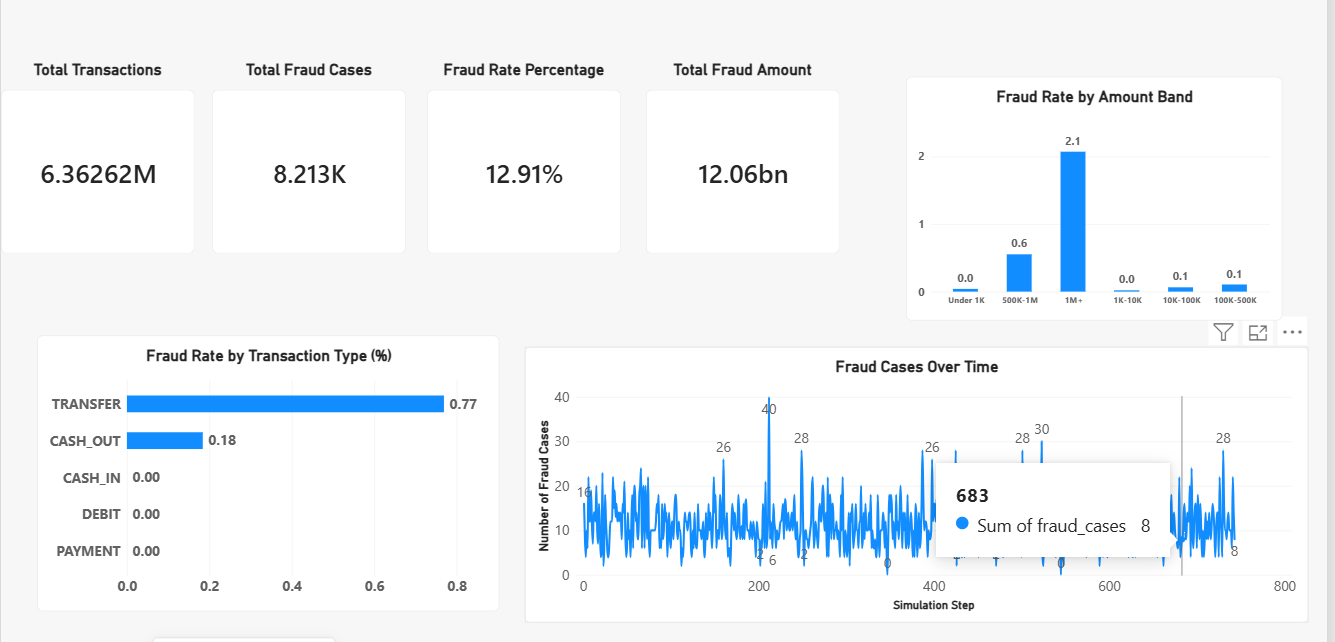

The page's visual inventory and layout, read from the dashboard file:
{"tool":"powerbi","page":{"name":"Fraud Analysis Overview","canvas":[1920,1080],"ordinal":0},"visuals":[{"type":"cardVisual","title":"Total Transactions","fields":{"Data":["Sum(fraud_kpis.total_transactions)"]},"box":[0,162.6,280,280],"z":0},{"type":"cardVisual","title":"Total Fraud Cases","fields":{"Data":["Sum(fraud_kpis.fraud_cases)"]},"box":[306.7,162.6,280,280],"z":1},{"type":"cardVisual","title":"Fraud Rate Percentage","fields":{"Data":["Sum(fraud_kpis.fraud_rate_pct)"]},"box":[617.5,162.6,280,280],"z":2},{"type":"cardVisual","title":"Total Fraud Amount","fields":{"Data":["Sum(fraud_kpis.total_fraud_amount)"]},"box":[934.5,162.6,280,280],"z":3},{"type":"clusteredBarChart","title":"Fraud Rate by Transaction Type (%)","fields":{"Category":["fraud_by_type.type"],"Y":["Sum(fraud_by_type.fraud_rate_pct)"]},"box":[52.5,561,669,399.3],"z":4},{"type":"lineChart","title":"Fraud Cases Over Time","fields":{"Category":["fraud_by_step.step"],"Y":["Sum(fraud_by_step.fraud_cases)"]},"box":[758.2,577.3,1134.1,399.3],"z":5},{"type":"clusteredColumnChart","title":"Fraud Rate by Amount Band","fields":{"Category":["fraud_by_amount_band.amount_band"],"Y":["Sum(fraud_by_amount_band.fraud_rate_pct)"]},"box":[1310.2,186.4,544.7,352.9],"z":6}]}

Visuals, with their boxes on the page's 1920x1080 design canvas (x1, y1, x2, y2). These are canvas units, not pixel positions in the 1335x642 screenshot, which may show the page scaled, cropped or inside an application window:
"Total Transactions" cardVisual: locate(0, 163, 280, 443)
"Total Fraud Cases" cardVisual: locate(307, 163, 587, 443)
"Fraud Rate Percentage" cardVisual: locate(618, 163, 898, 443)
"Total Fraud Amount" cardVisual: locate(934, 163, 1214, 443)
"Fraud Rate by Transaction Type (%)" clusteredBarChart: locate(52, 561, 722, 960)
"Fraud Cases Over Time" lineChart: locate(758, 577, 1892, 977)
"Fraud Rate by Amount Band" clusteredColumnChart: locate(1310, 186, 1855, 539)
